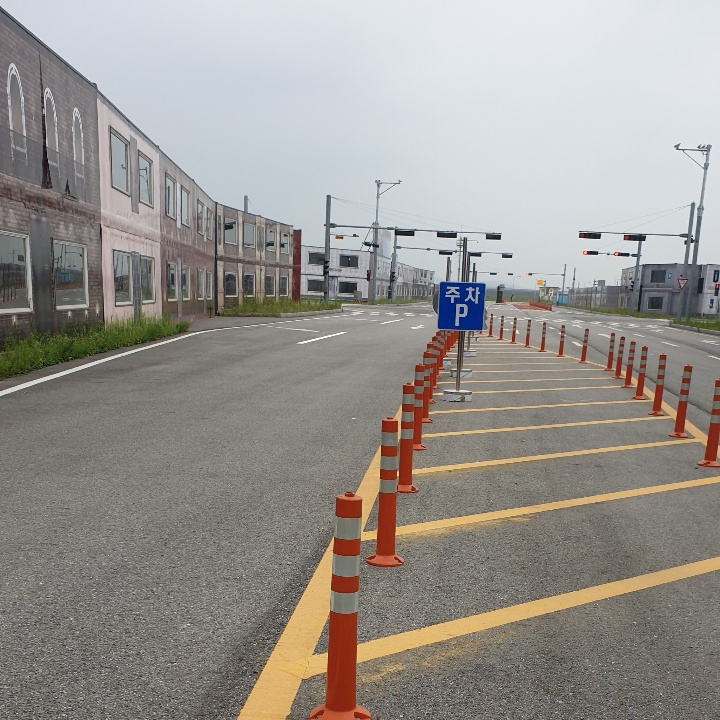parking: (451, 297, 473, 330)
